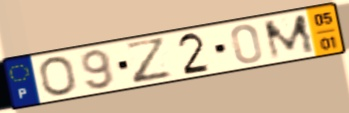0: (230, 23, 265, 65)
2: (176, 31, 212, 77)
9: (79, 48, 116, 91)
M: (261, 12, 318, 62)
O: (37, 54, 79, 96)
Z: (122, 36, 176, 86)
